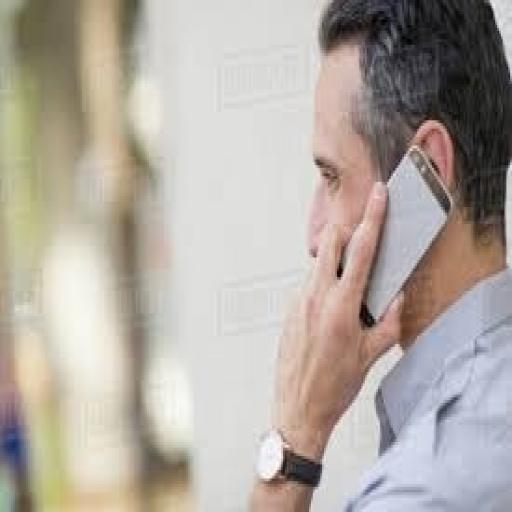texting: (244, 0, 510, 509)
